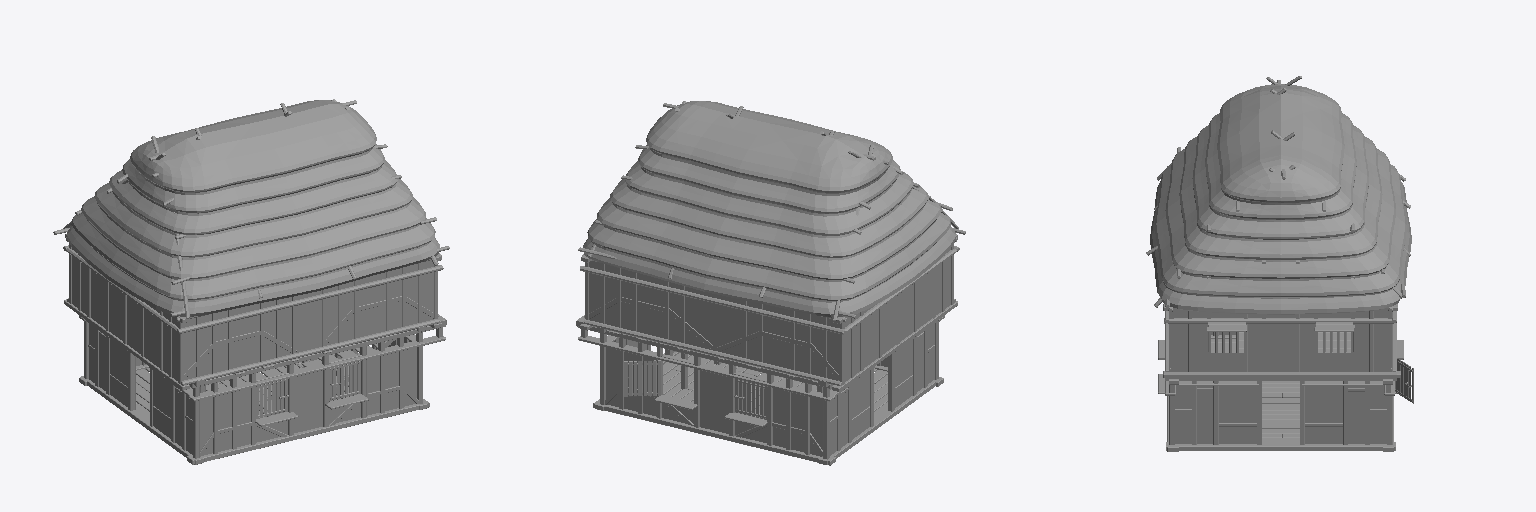
File: -LOD0_t_hut_003.obj
3 renders of one model, left to right at view 1: azimuth 30°, elevation 25°; view 2: azimuth 150°, elevation 25°; view 3: azimuth 270°, elevation 25°, orthographic.
Parts seen in each view (by area): view 1: thatch_transparency_bc.008_thatch_transparency_bc.010, Cube.000_Cube.002; view 2: thatch_transparency_bc.008_thatch_transparency_bc.010, Cube.000_Cube.002; view 3: thatch_transparency_bc.008_thatch_transparency_bc.010, Cube.000_Cube.002.
Part boxes in pixels (left/top/right/bottom): thatch_transparency_bc.008_thatch_transparency_bc.010: left=67, top=100, right=439, bottom=316; Cube.000_Cube.002: left=53, top=99, right=449, bottom=464; thatch_transparency_bc.008_thatch_transparency_bc.010: left=583, top=101, right=955, bottom=317; Cube.000_Cube.002: left=576, top=101, right=965, bottom=465; thatch_transparency_bc.008_thatch_transparency_bc.010: left=1150, top=84, right=1411, bottom=314; Cube.000_Cube.002: left=1146, top=76, right=1413, bottom=451.
Bounding box in the file's own units: 15.33 × 13.91 × 12.05.